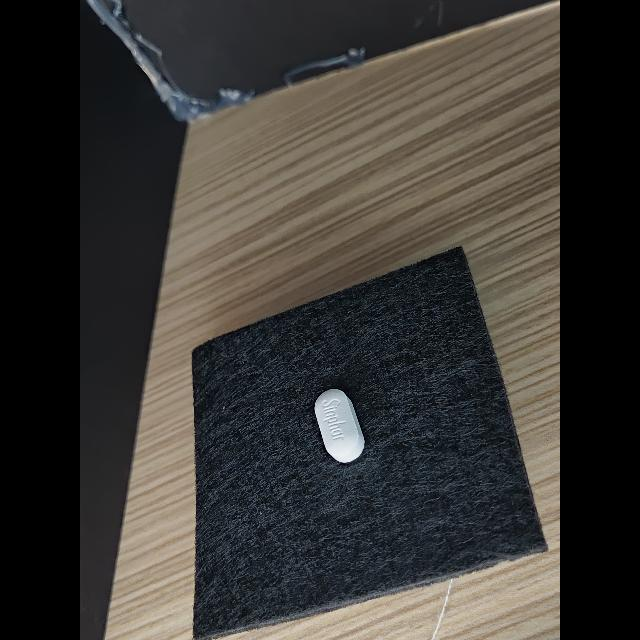Intact Pill: (314, 389, 365, 463)
